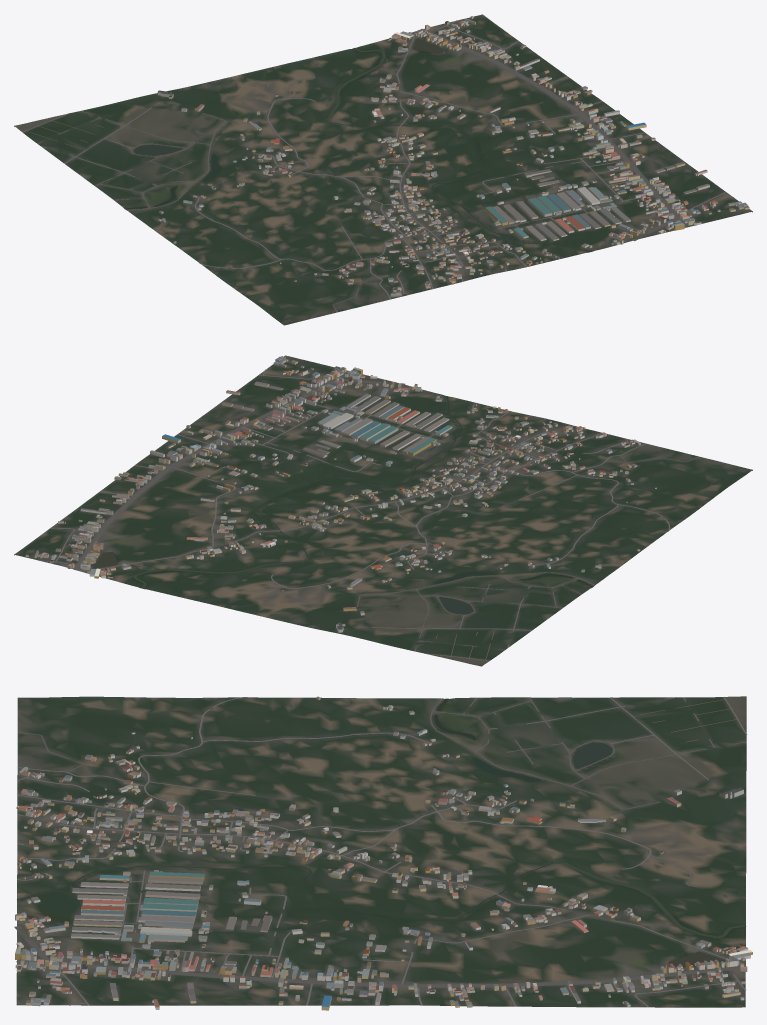
3 renders of one model, top to bottom at view 1: azimuth 30°, elevation 25°; view 2: azimuth 150°, elevation 25°; view 3: azimuth 270°, elevation 25°, orthographic. The views are drawn at different scales.
Parts seen in each view (by area): view 1: ground, buildings, roads, water; view 2: ground, buildings, roads, water; view 3: ground, buildings, roads, water.
Part boxes in pixels (x1=…): ground: x1=14, y1=14, x2=752, y2=325; buildings: x1=157, y1=16, x2=749, y2=296; roads: x1=22, y1=20, x2=733, y2=312; water: x1=125, y1=38, x2=590, y2=251; ground: x1=14, y1=355, x2=752, y2=666; buildings: x1=25, y1=356, x2=656, y2=632; roads: x1=39, y1=369, x2=699, y2=660; water: x1=93, y1=396, x2=592, y2=614; ground: x1=16, y1=696, x2=746, y2=1007; buildings: x1=15, y1=696, x2=752, y2=1010; roads: x1=14, y1=697, x2=747, y2=1007; water: x1=17, y1=698, x2=746, y2=966.
Bounding box in the file's own units: 1423 × 28.18 × 1421.
